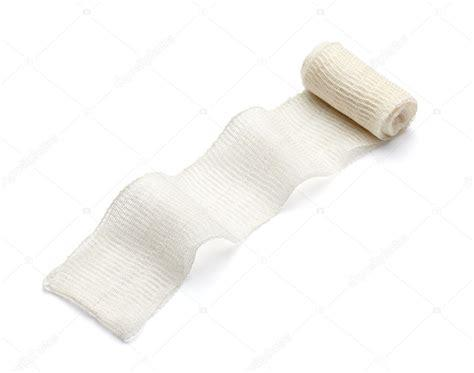gauze: (16, 44, 458, 344)
